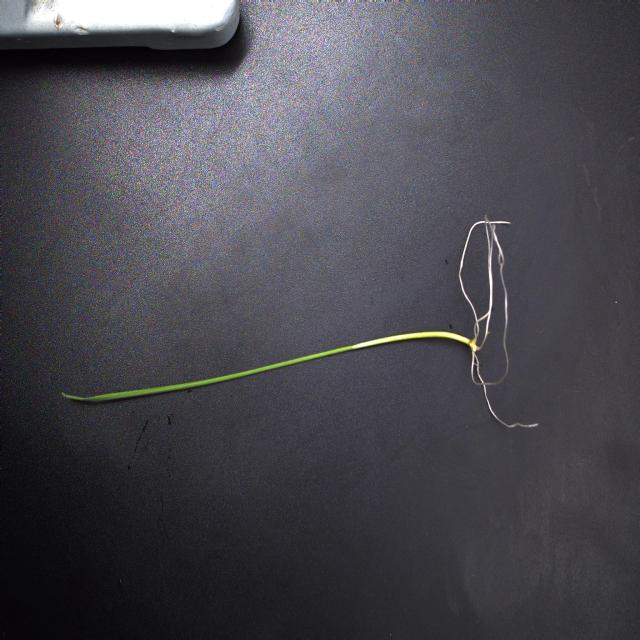leaf: (60, 344, 352, 402)
root: (458, 217, 539, 431)
stem: (351, 331, 471, 349)
